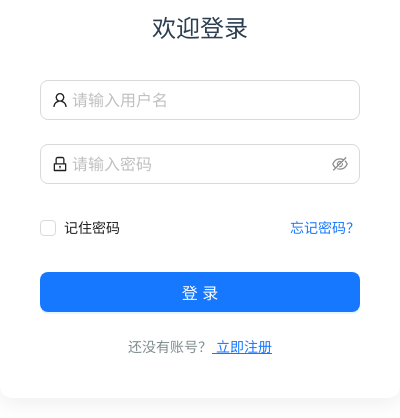
it: LoginForm › shows validation error on empty submit
The image size is (400, 418).
Click the button "登 录".
click(200, 292)  # box [40,272,360,312]
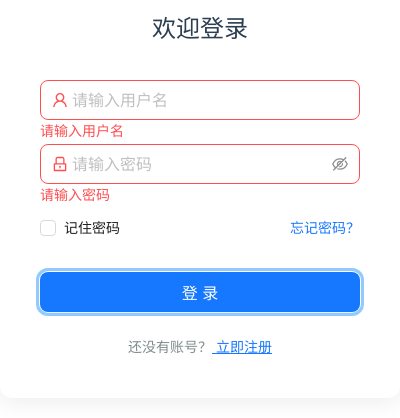
Expected: the text "请输入用户名" is shown, [40,122,124,139]
Expected: the text "请输入密码" is shown, [40,186,110,203]
